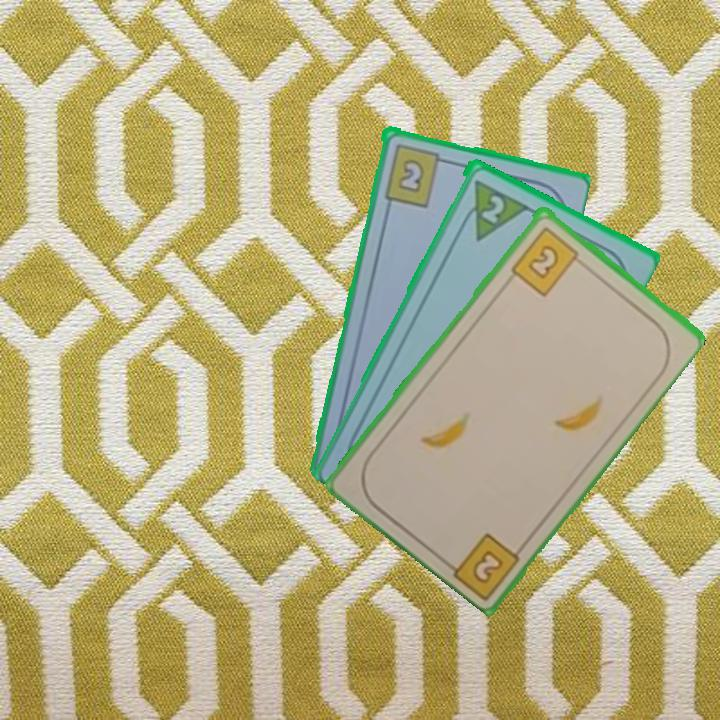2b: (507, 222, 587, 299), (380, 140, 451, 209), (468, 545, 507, 586)
2p: (454, 175, 529, 243)
